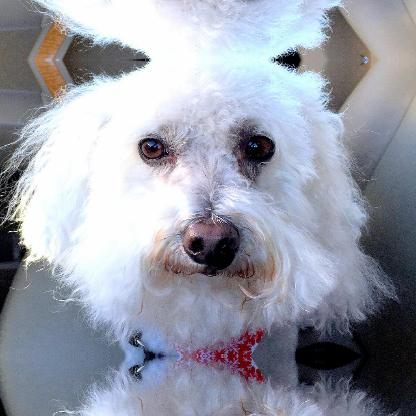Dog: (0, 59, 401, 356), (0, 0, 401, 60)
